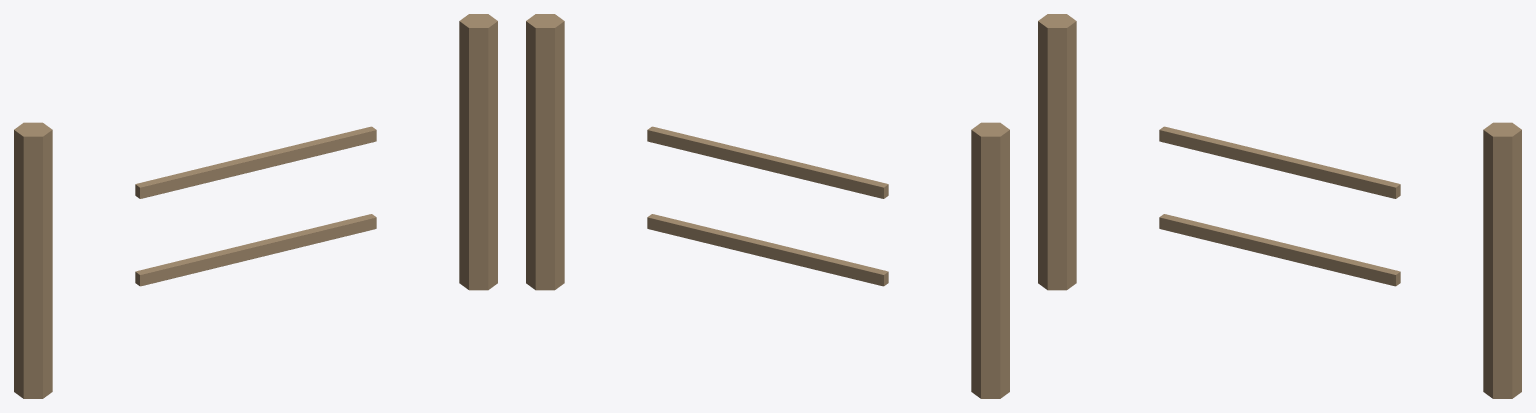
The model's file is fence_section.glb.
The picture shows the model from 3 angles, left to right: view 1: azimuth 30°, elevation 25°; view 2: azimuth 150°, elevation 25°; view 3: azimuth 330°, elevation 25°; orthographic projection.
Visible parts, largest first — view 1: FencePost_-0.8, FencePost_0.8, Rail_0.3, Rail_0.6; view 2: FencePost_-0.8, FencePost_0.8, Rail_0.3, Rail_0.6; view 3: FencePost_-0.8, FencePost_0.8, Rail_0.3, Rail_0.6.
Boxes of the visible parts, x1=… form: FencePost_-0.8: x1=14, y1=122, x2=52, y2=398; FencePost_0.8: x1=459, y1=14, x2=497, y2=290; Rail_0.3: x1=135, y1=214, x2=376, y2=286; Rail_0.6: x1=135, y1=126, x2=376, y2=198; FencePost_-0.8: x1=971, y1=122, x2=1009, y2=398; FencePost_0.8: x1=526, y1=14, x2=564, y2=290; Rail_0.3: x1=647, y1=214, x2=888, y2=286; Rail_0.6: x1=647, y1=126, x2=888, y2=198; FencePost_-0.8: x1=1038, y1=14, x2=1076, y2=290; FencePost_0.8: x1=1483, y1=122, x2=1521, y2=398; Rail_0.3: x1=1159, y1=214, x2=1400, y2=286; Rail_0.6: x1=1159, y1=126, x2=1400, y2=198.
Bounding box in the file's own units: 1.7 × 0.9 × 0.12.
